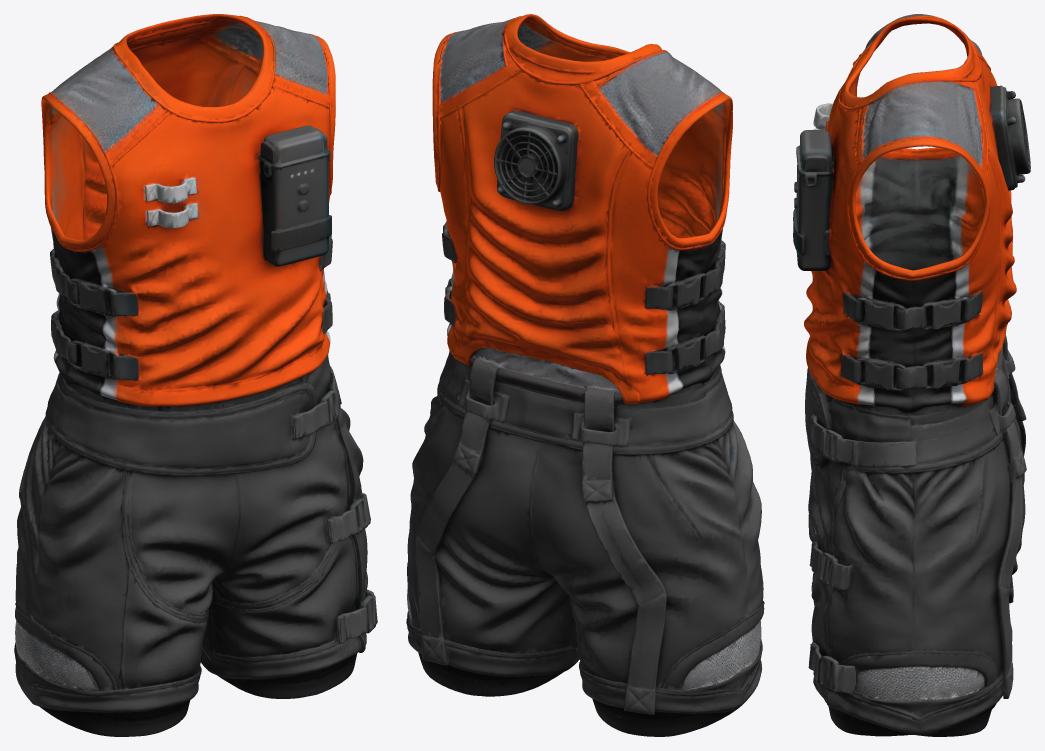
Rendered from ORANGE_K-web.glb.
3 renders of one model, left to right at view 1: azimuth 30°, elevation 25°; view 2: azimuth 150°, elevation 25°; view 3: azimuth 270°, elevation 25°, orthographic. The views are drawn at different scales.
Parts seen in each view (by area): view 1: haptic vest and shorts 3d model; view 2: haptic vest and shorts 3d model; view 3: haptic vest and shorts 3d model.
Part boxes in pixels (box(x1,y1,x2,y2)): haptic vest and shorts 3d model: box(14, 14, 377, 736); haptic vest and shorts 3d model: box(406, 14, 764, 736); haptic vest and shorts 3d model: box(793, 14, 1030, 736).
Bounding box in the file's own units: 0.5085 × 0.9791 × 0.3325.
Materials: 1 (1 with a texture image).
